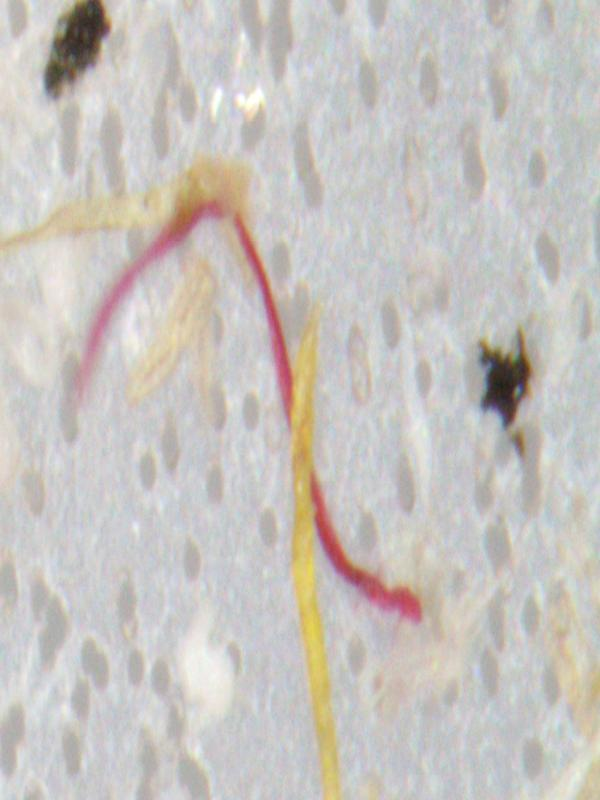microplastic: (2, 150, 425, 796), (475, 321, 534, 461)
